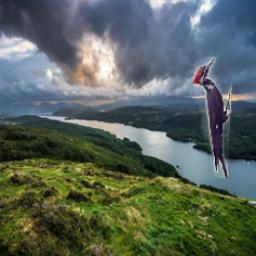Woodpecker: (193, 58, 232, 179)
